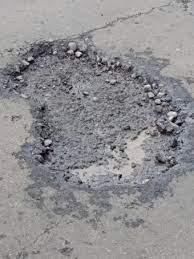Pothole: (0, 32, 194, 199)
